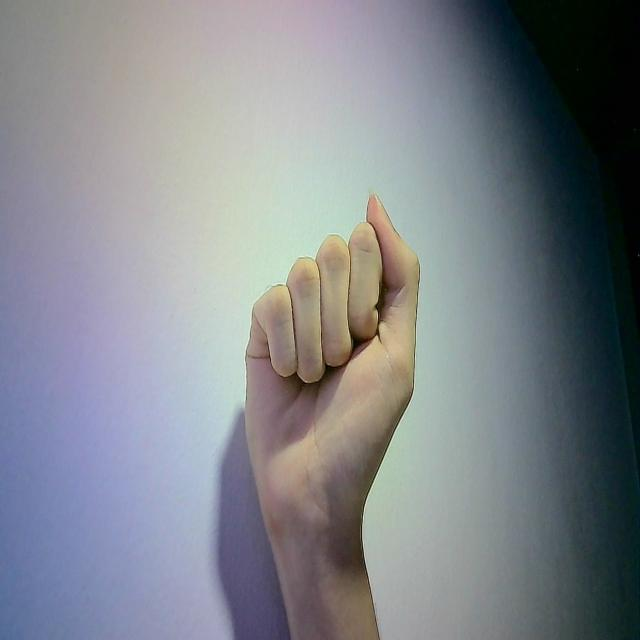A: (233, 186, 426, 510)
